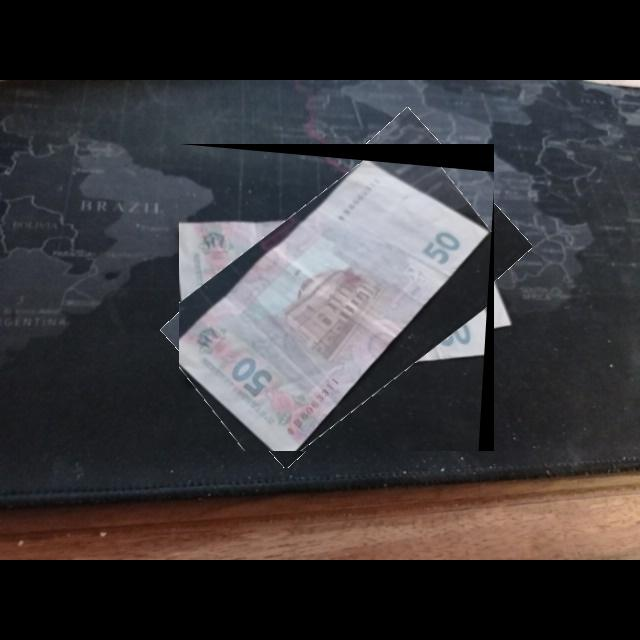50uah: (179, 158, 493, 452)
